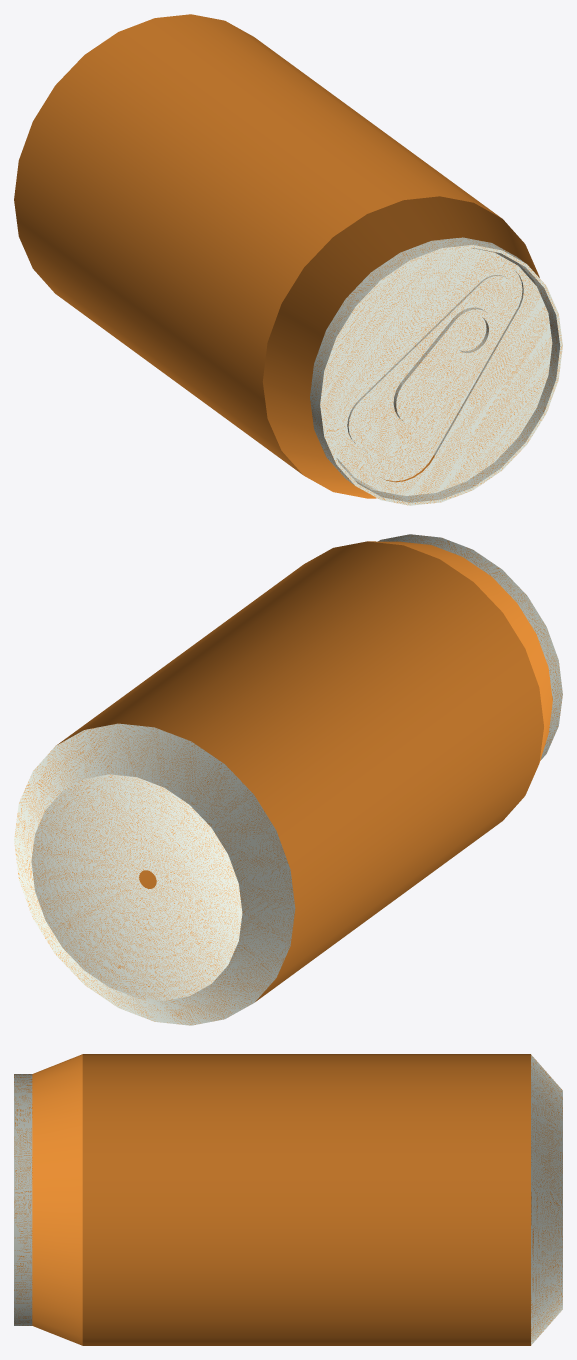
File: model_scale.obj
3 renders of one model, top to bottom at view 1: azimuth 30°, elevation 25°; view 2: azimuth 150°, elevation 25°; view 3: azimuth 270°, elevation 25°, orthographic. The views are drawn at different scales.
Visible parts, largest first — view 1: mesh1_mesh1-geometry; view 2: mesh1_mesh1-geometry; view 3: mesh1_mesh1-geometry.
Boxes of the visible parts, x1=… form: mesh1_mesh1-geometry: x1=14, y1=14, x2=562, y2=505; mesh1_mesh1-geometry: x1=14, y1=534, x2=562, y2=1025; mesh1_mesh1-geometry: x1=14, y1=1054, x2=562, y2=1345.
Bounding box in the file's own units: 0.0559 × 0.0559 × 0.1047.
